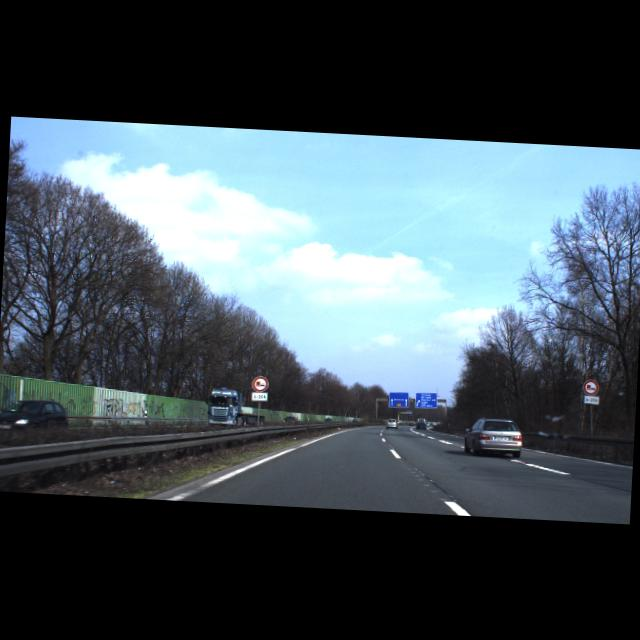prohibitory: (582, 379, 600, 396), (251, 376, 268, 392)
